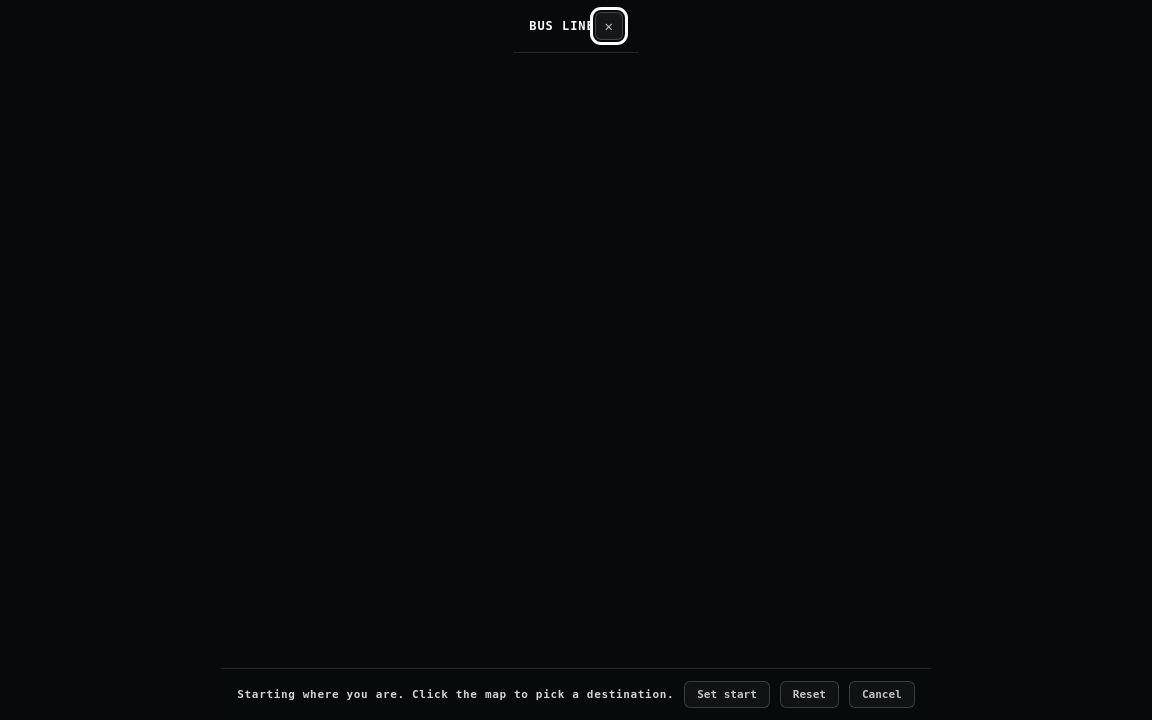
BusOverMap › shows an inline error and no Go button when routing fails
This screenshot has width=1152, height=720.
Click the element with test id "bus-map": click(576, 360) top-left (0, 53), bottom-right (1151, 668)
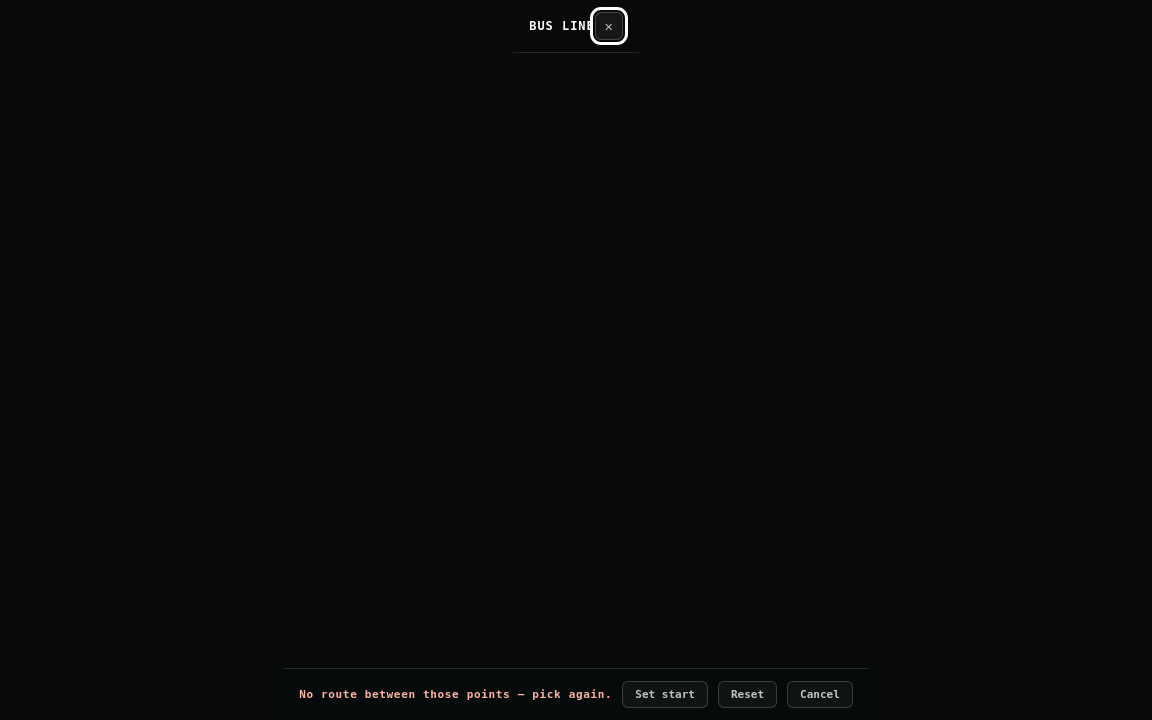
Expected: the message shows "No route", top-left (299, 688), bottom-right (612, 701)
